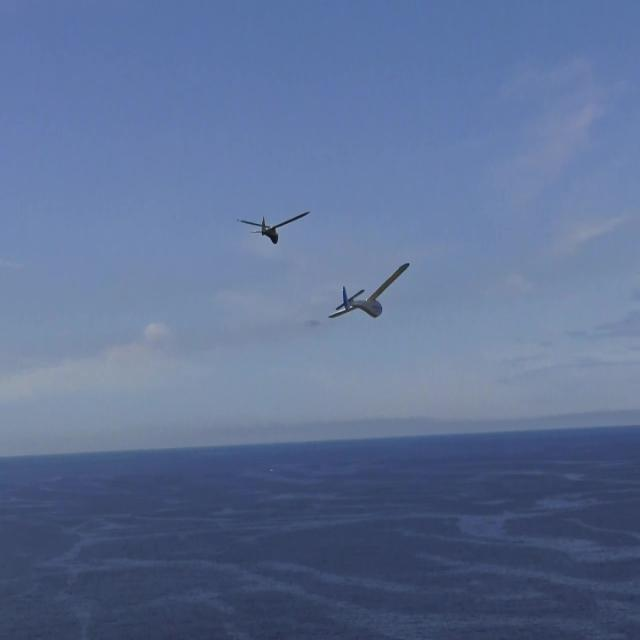iha: (360, 261, 378, 319), (271, 210, 275, 246)
